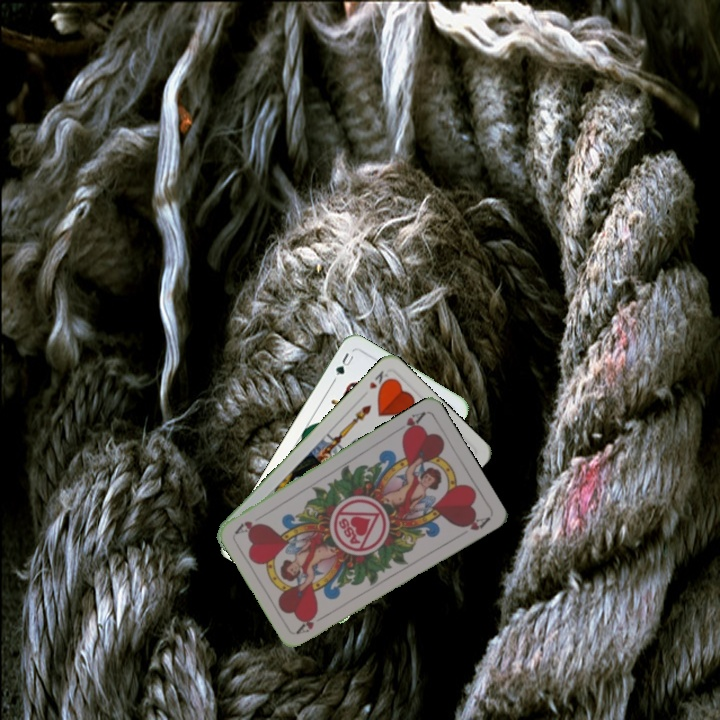GU: (331, 349, 356, 378)
HA: (293, 609, 330, 636), (398, 407, 429, 439)
HK: (365, 366, 394, 394)
